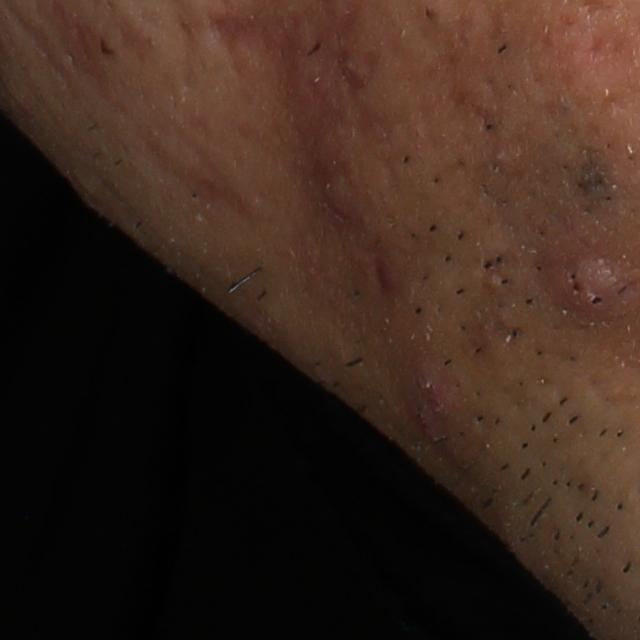atrophic_scar: (204, 9, 299, 86), (578, 29, 612, 60)
nevus: (563, 145, 620, 222)
